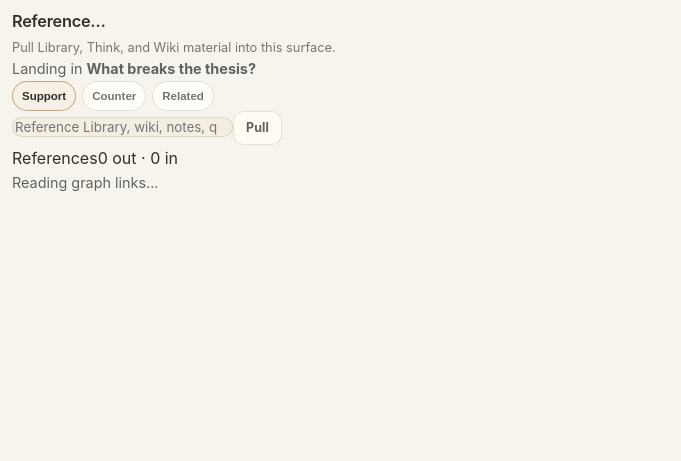
Test: ReferencePullIn › lets question surfaces choose support or counter evidence before pulling a reference
Click the button "Counter": coordinates (114, 96) [82,81,146,111]
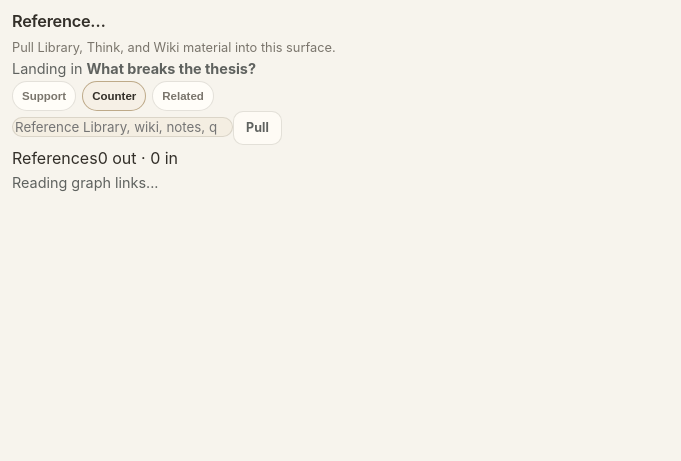
Now the button "Counter" is pressed, box [82,81,146,111]
In the search field named "Search references to pull in": coordinates (122, 127) [12,117,233,137], type "margin"
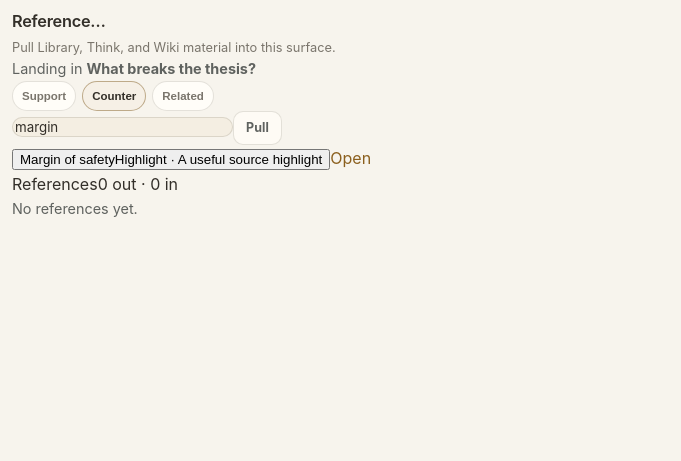
Now the text "Margin of safety" is shown
Click the text "Margin of safety": coordinates (67, 159) [20,152,115,167]
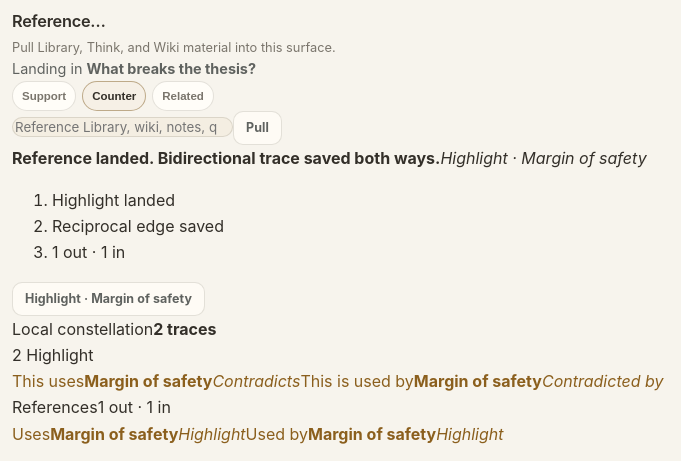
Now the element labelled "Local constellation" shows "Contradicted by", box [300,371,664,391]
